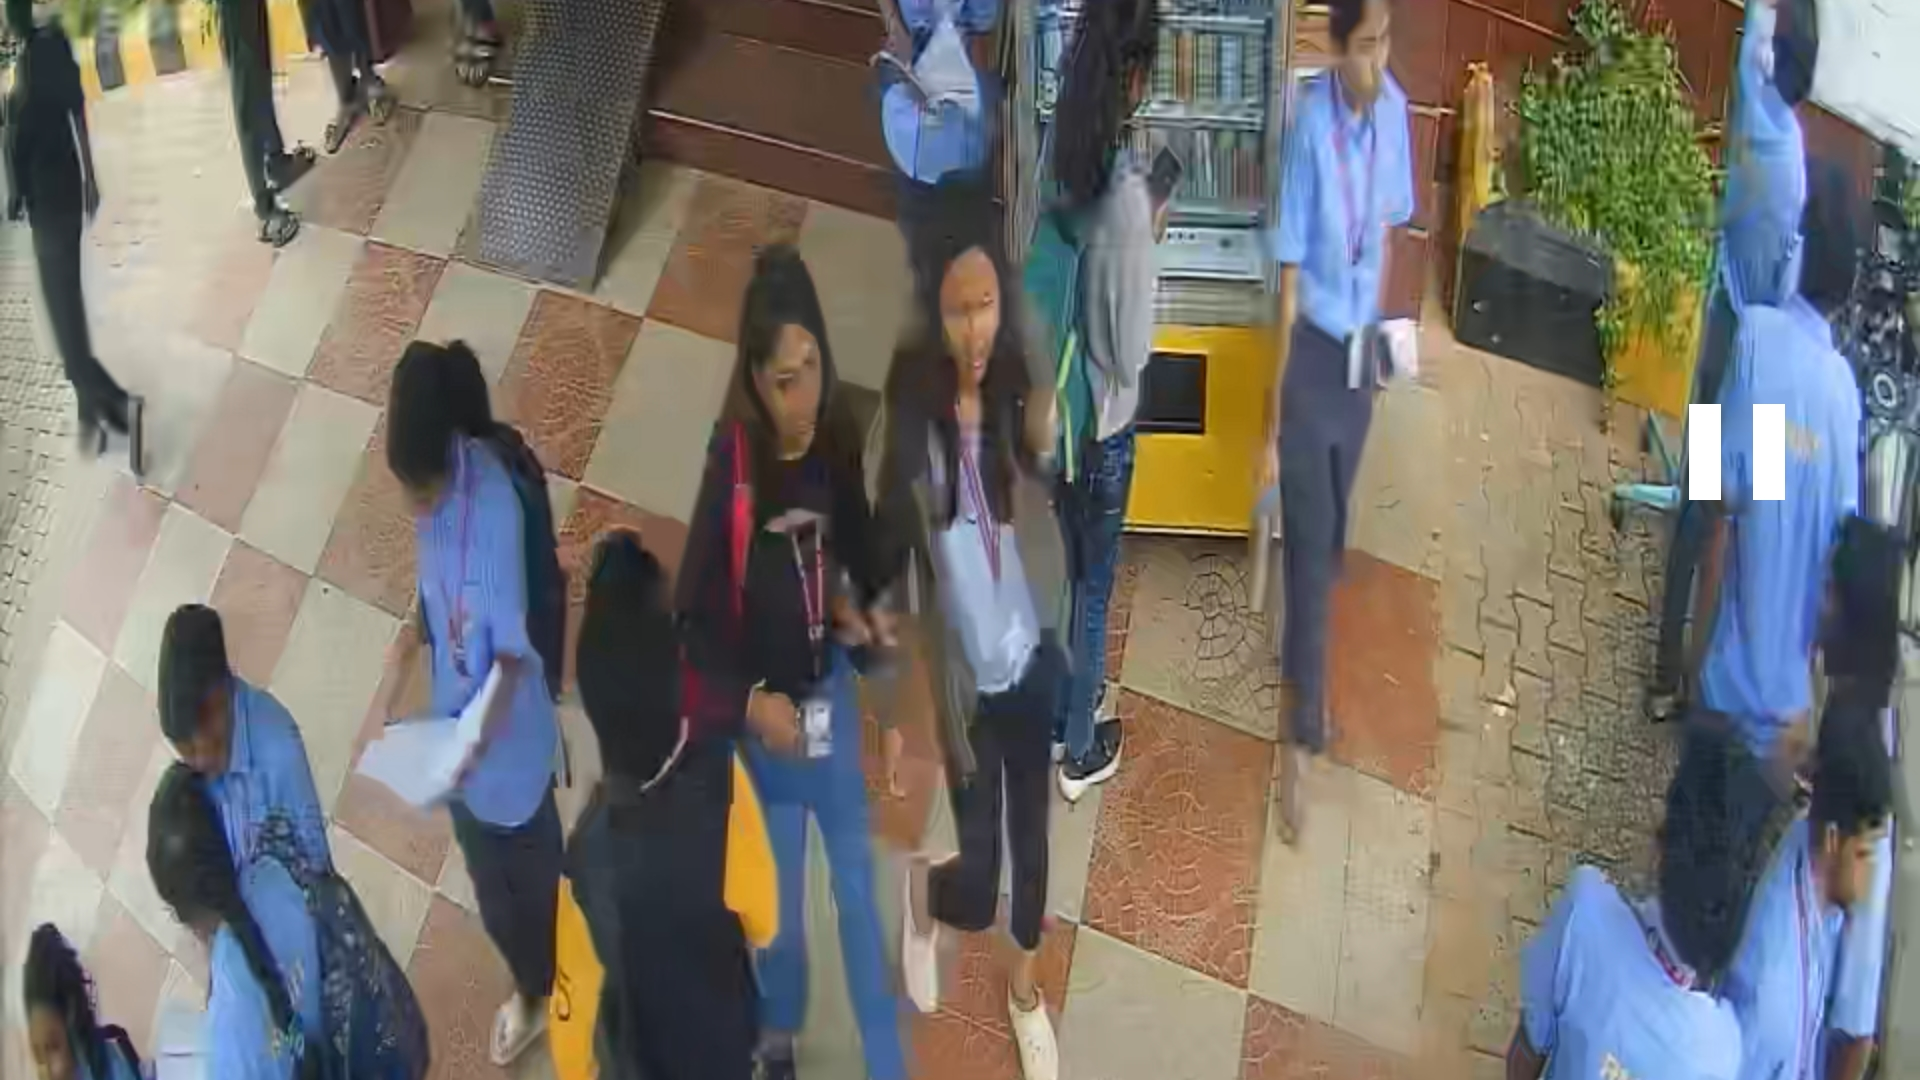not intruder: (674, 235, 932, 1080), (878, 222, 1097, 1080), (367, 324, 585, 1052), (1287, 1, 1404, 720)
